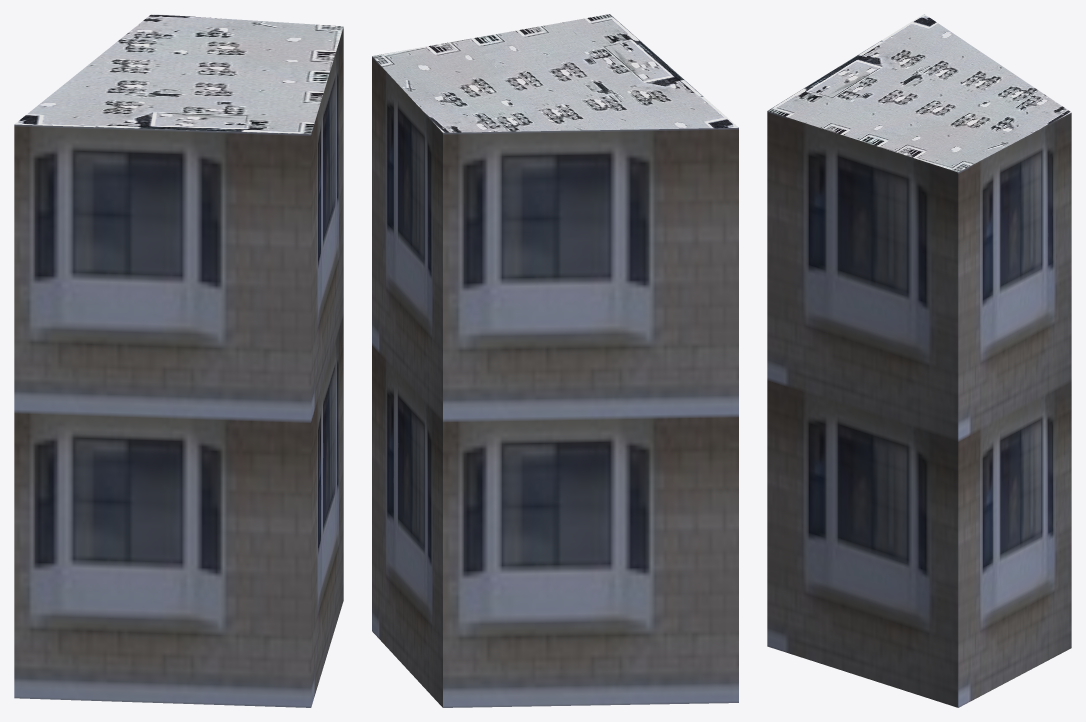
Rendered from ResTex__2901.fbx.
3 renders of one model, left to right at view 1: azimuth 30°, elevation 25°; view 2: azimuth 150°, elevation 25°; view 3: azimuth 270°, elevation 25°, orthographic. The views are drawn at different scales.
Visible parts, largest first — view 1: CityEngineMaterial_3_m, CityEngineMaterial_4_m; view 2: CityEngineMaterial_3_m, CityEngineMaterial_4_m; view 3: CityEngineMaterial_3_m, CityEngineMaterial_4_m.
Part boxes in pixels (left/top/right/bottom): CityEngineMaterial_3_m: left=14, top=27, right=343, bottom=707; CityEngineMaterial_4_m: left=14, top=14, right=343, bottom=134; CityEngineMaterial_3_m: left=372, top=56, right=738, bottom=707; CityEngineMaterial_4_m: left=372, top=14, right=738, bottom=132; CityEngineMaterial_3_m: left=767, top=111, right=1071, bottom=707; CityEngineMaterial_4_m: left=767, top=14, right=1071, bottom=172.
Bounding box in the file's own units: 3.81 × 6 × 3.09.
Materials: 2 (2 with a texture image).
